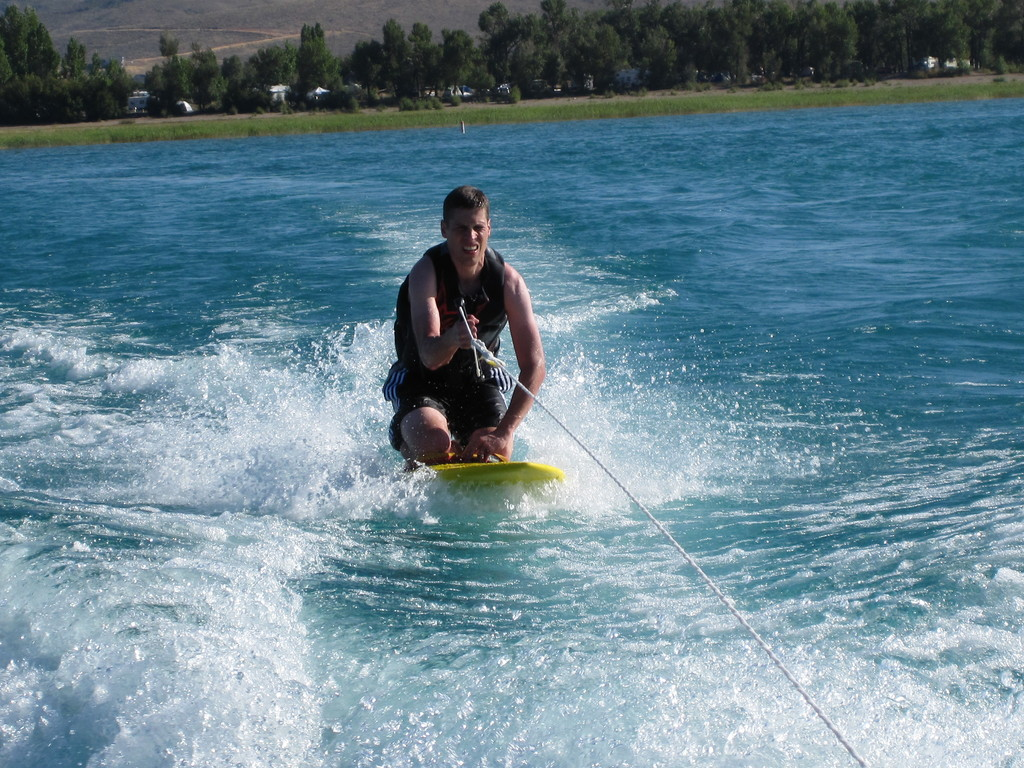Person: (388, 185, 544, 471)
